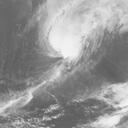cyclone: (38, 2, 93, 60)
